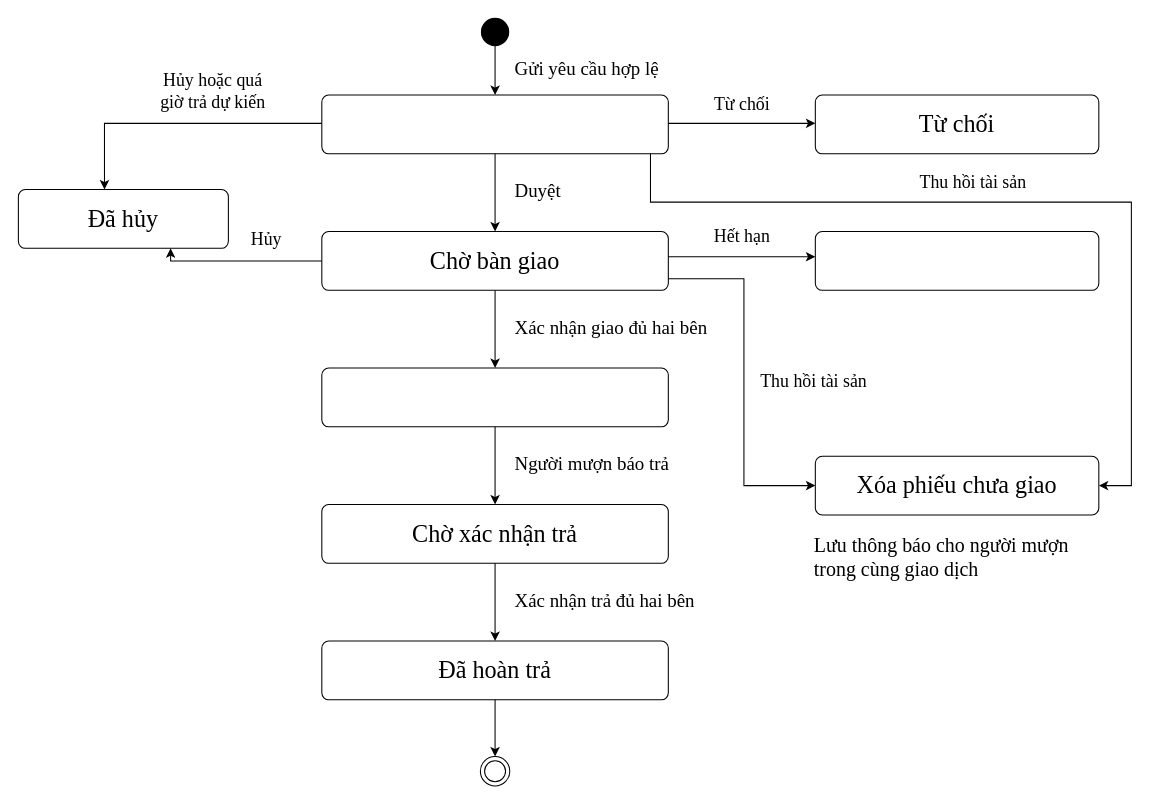
Image size: 1158x804. Some labels were removed from this diagram. The shapes that lost their labels are listed below. From the top down, each one's box as (x1, y1, x2, y2) in pixels, then its label:
(321, 94, 668, 154): Chờ duyệt
(814, 230, 1099, 290): Hết hạn nhận
(321, 367, 668, 427): Đang mượn
